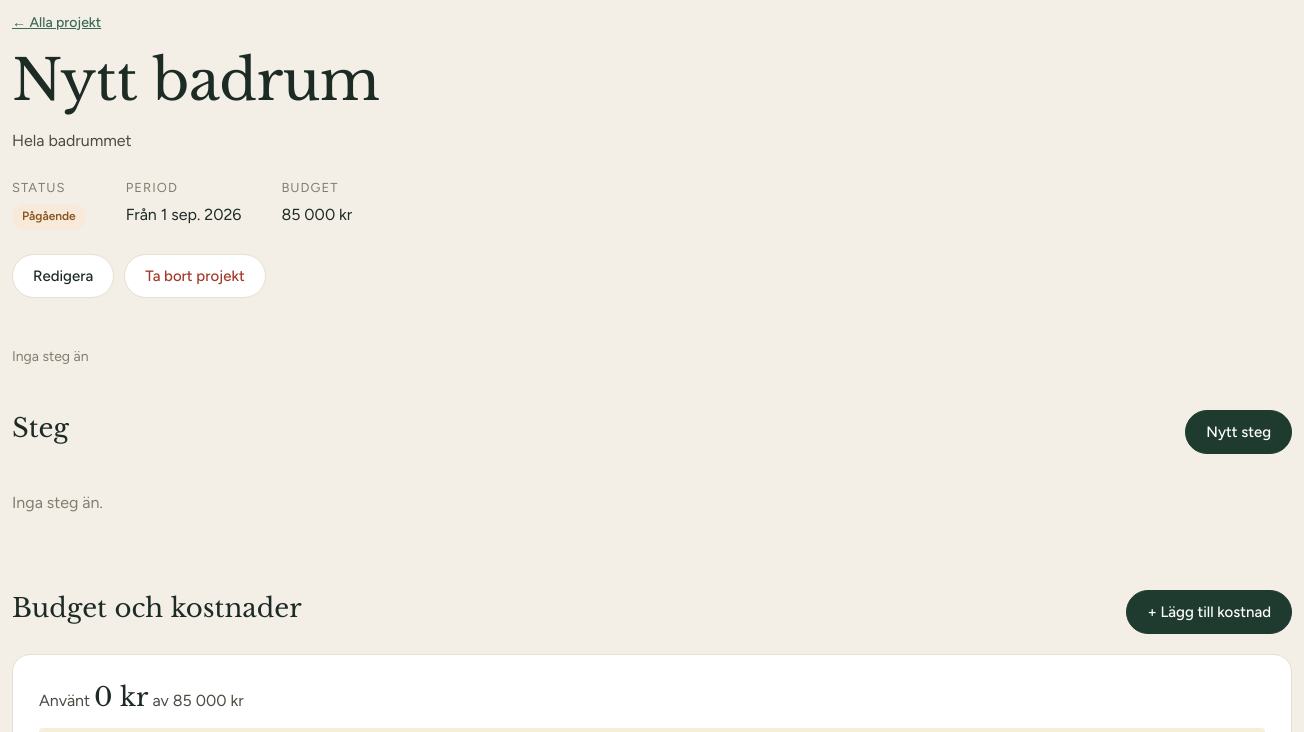
Test: ProjectDetail: the project › saves an edited project and shows the new values
The width and height of the screenshot is (1304, 732).
expect the heading "Nytt badrum" is shown: met, box [12,46,379,115]
Click the button "Redigera".
click(63, 276)  # box [12,254,114,298]
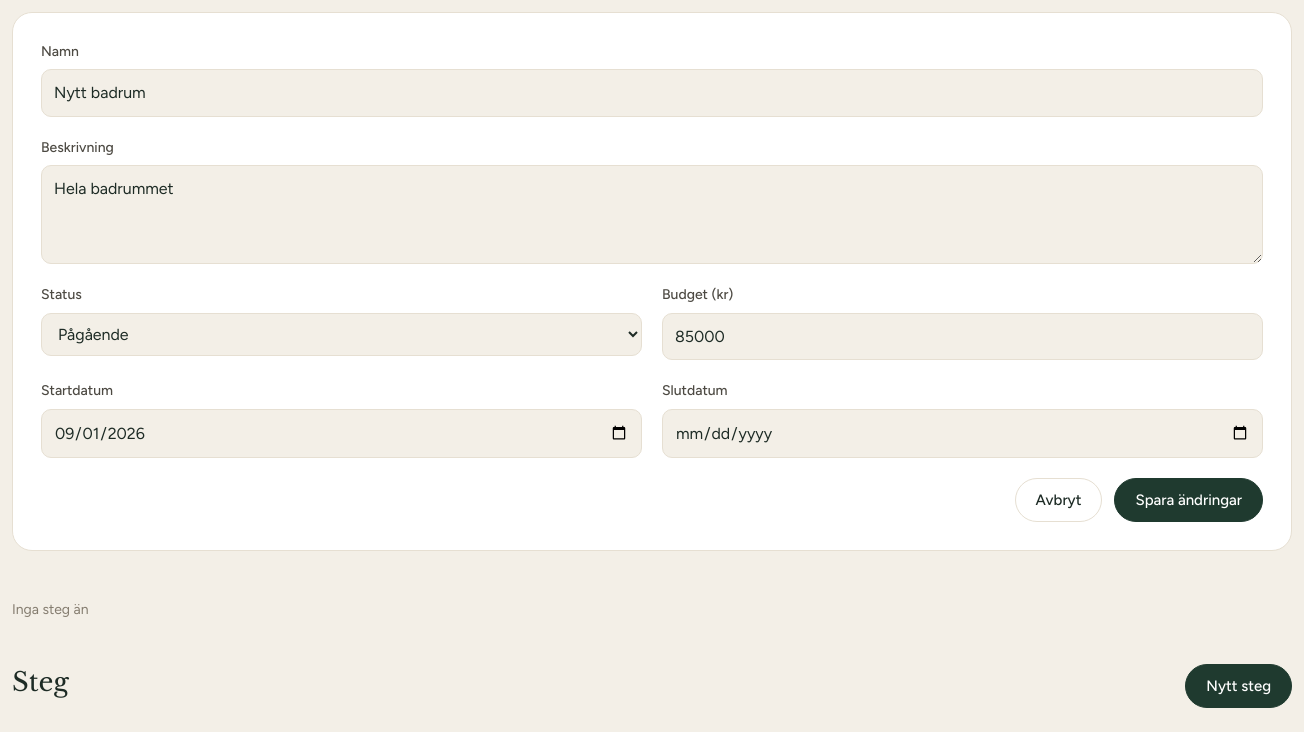
Replace the text in the field labelled "Namn" with "Badrum uppe" at (652, 93), box [41,69,1263,117]
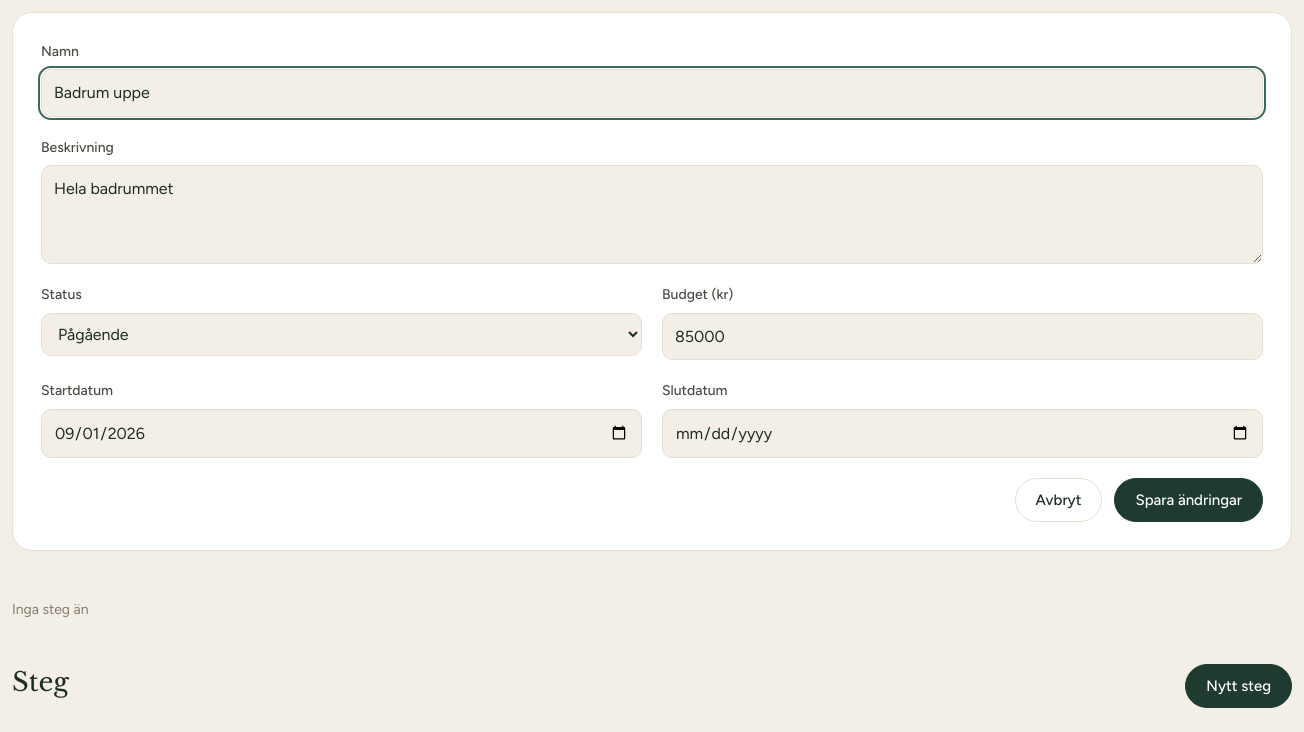
Click the button "Spara ändringar".
click(1189, 500)  # box [1114,478,1263,522]
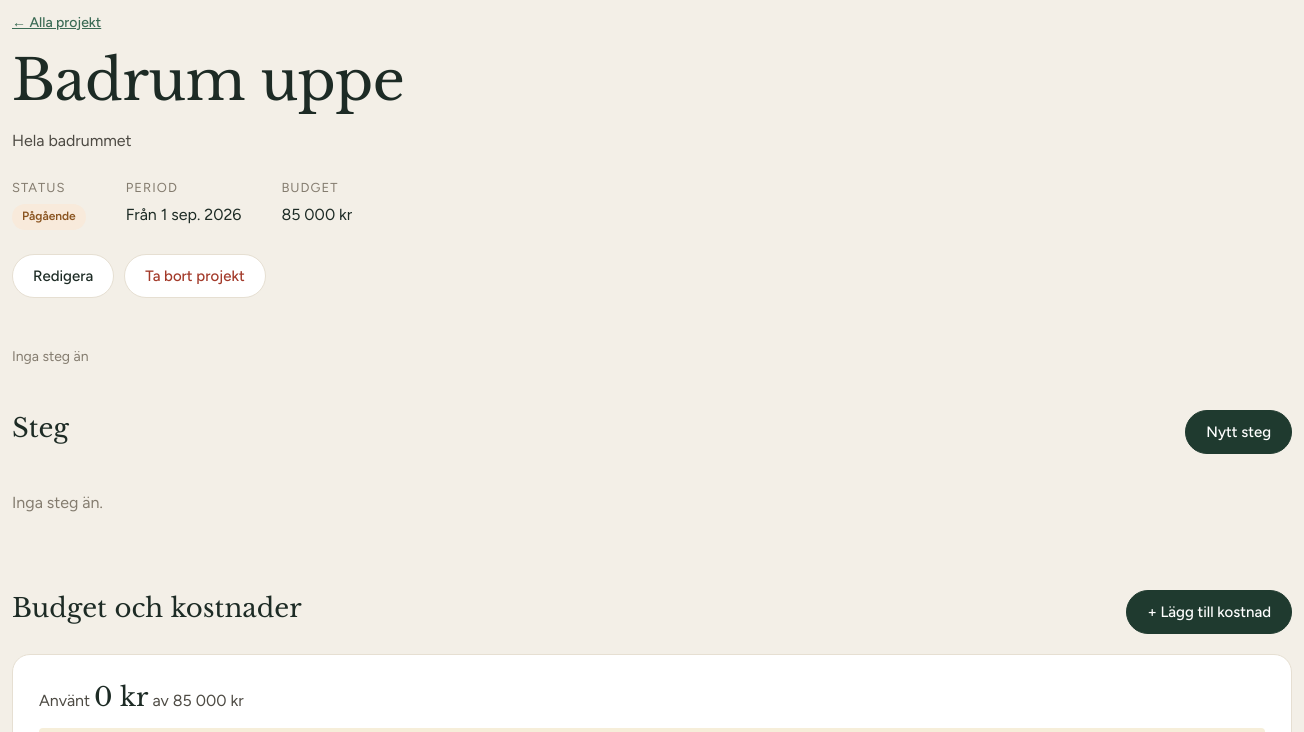
expect the heading "Badrum uppe" is shown: met, box [12,46,404,115]
